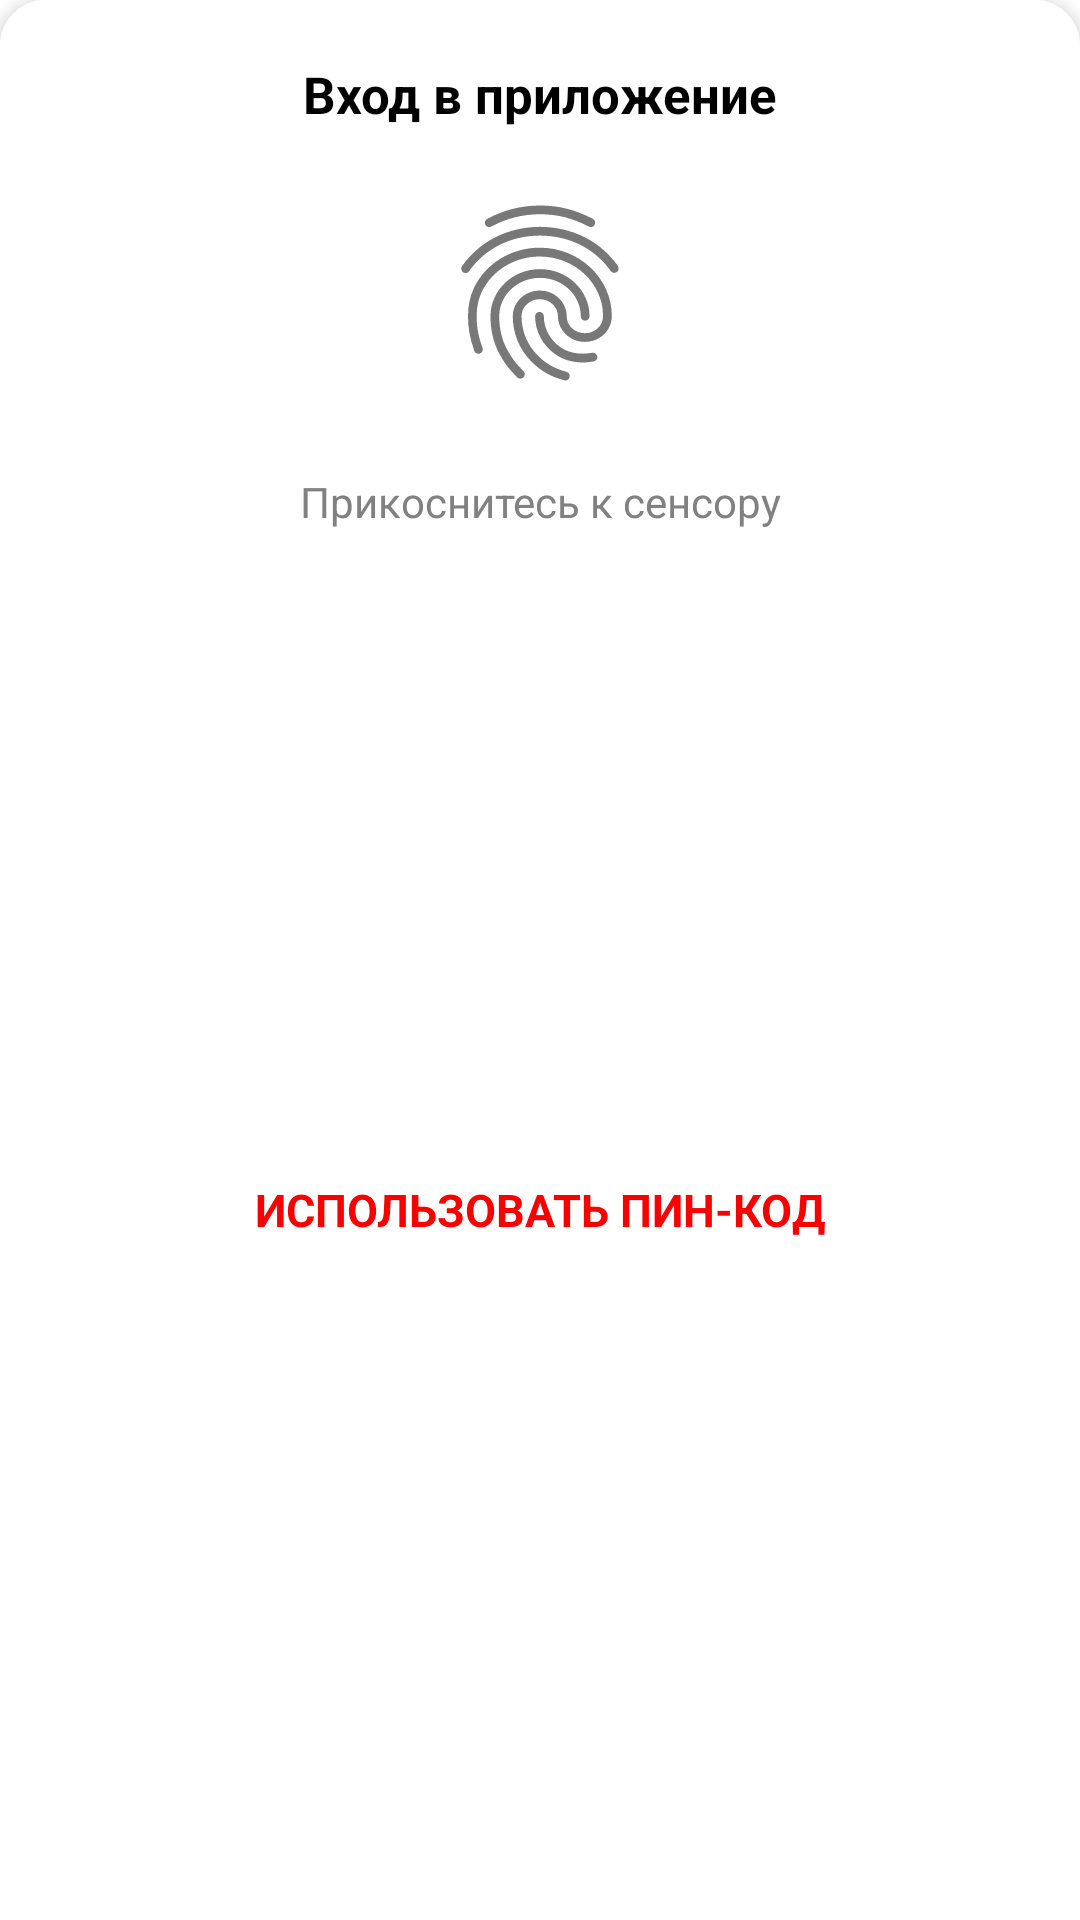

Screen size 1080w x 1920h. Icon name, then its box in pixels as box=[x1, y1, x2, y2]:
fingerprint: box=[461, 205, 619, 381]
